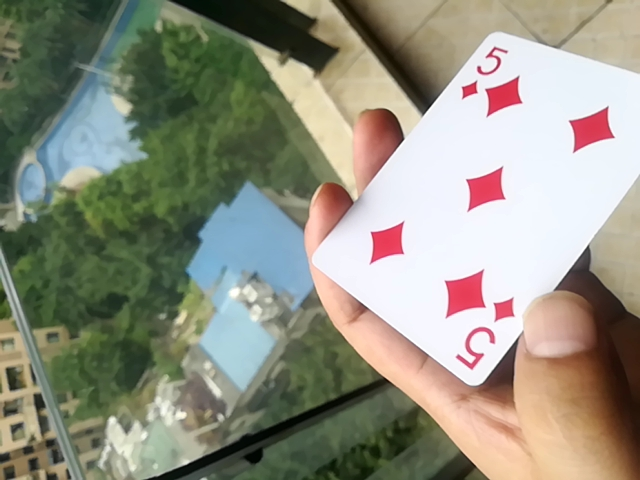fk 5: (297, 29, 640, 398)
